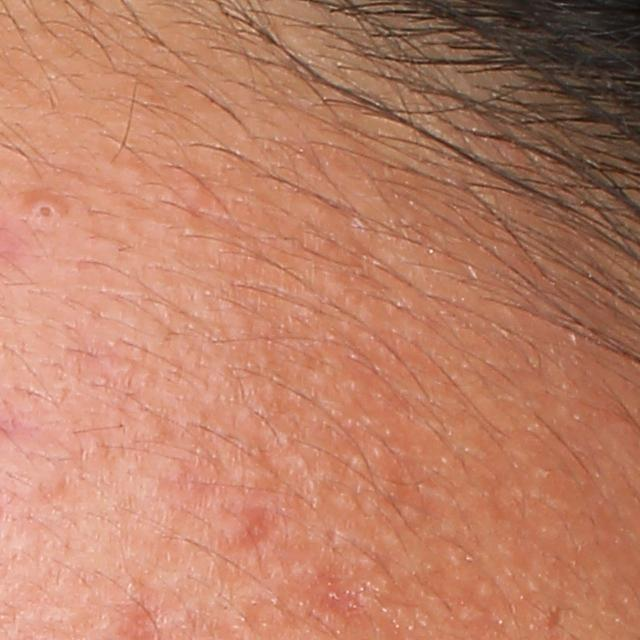comedo: (24, 190, 67, 220)
